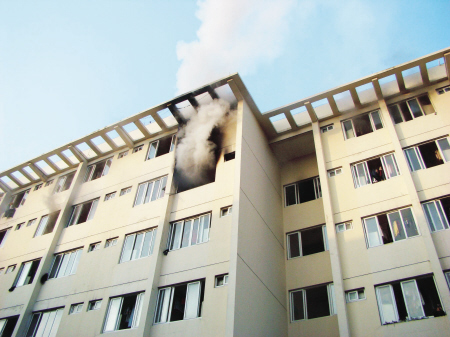smoke: (175, 3, 259, 180)
